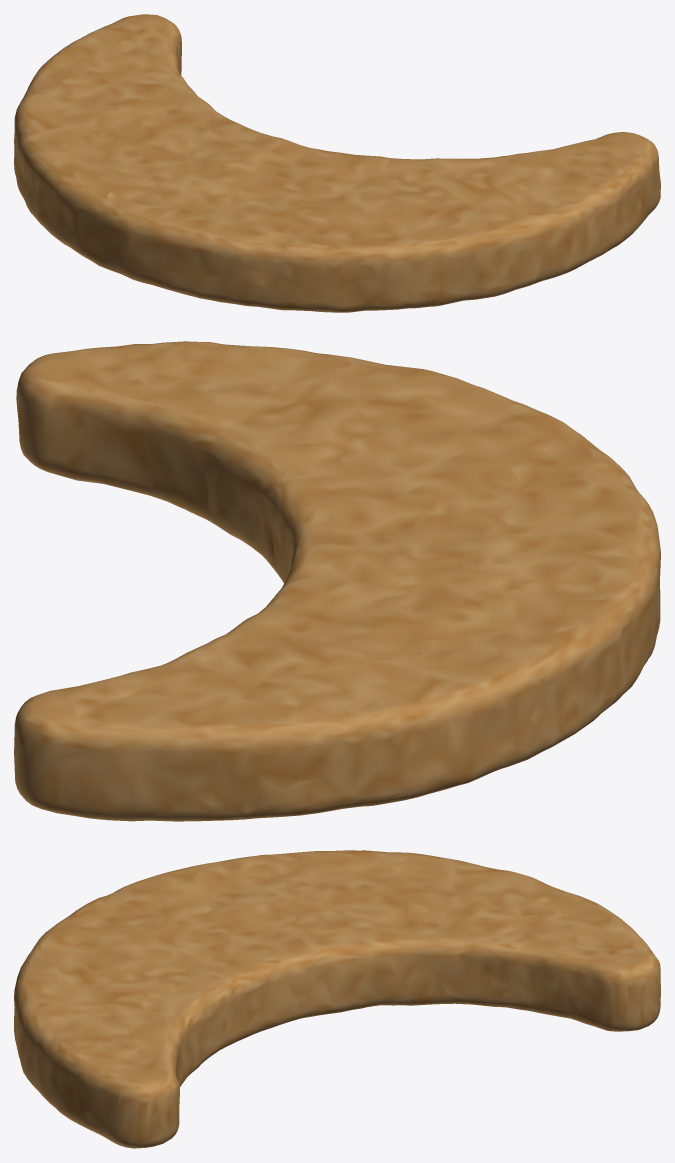
The model's file is mond.glb.
3 renders of one model, top to bottom at view 1: azimuth 30°, elevation 25°; view 2: azimuth 150°, elevation 25°; view 3: azimuth 270°, elevation 25°, orthographic. The views are drawn at different scales.
Visible parts, largest first — view 1: cookie; view 2: cookie; view 3: cookie.
Boxes of the visible parts, left/top/right/bottom form: cookie: left=14, top=14, right=660, bottom=312; cookie: left=14, top=341, right=660, bottom=821; cookie: left=14, top=850, right=660, bottom=1148.
Bounding box in the file's own units: 0.0735 × 0.00969 × 0.0827.
